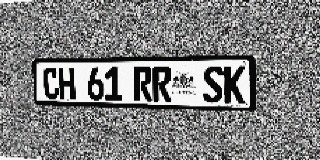1: (104, 67, 122, 101)
6: (87, 67, 104, 100)
C: (43, 67, 59, 99)
H: (58, 67, 75, 100)
K: (224, 66, 245, 103)
R: (152, 66, 171, 102), (134, 67, 152, 101)
S: (203, 66, 223, 103)
